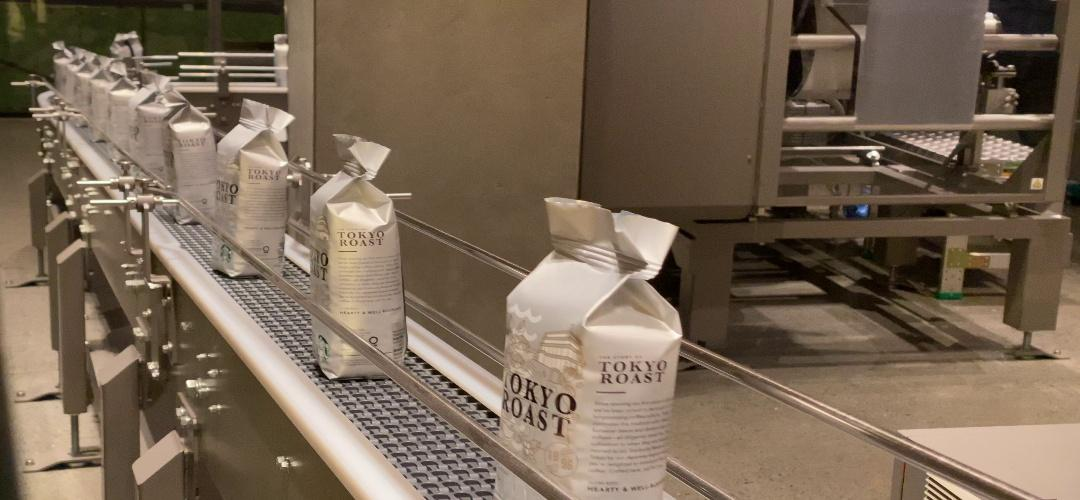conveyor: (502, 292, 668, 450), (308, 192, 402, 295), (218, 143, 288, 224)
